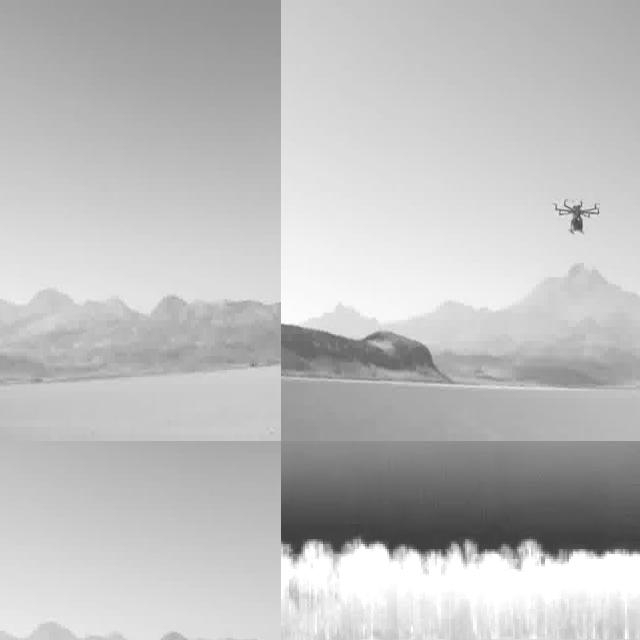drone: (551, 193, 602, 242)
